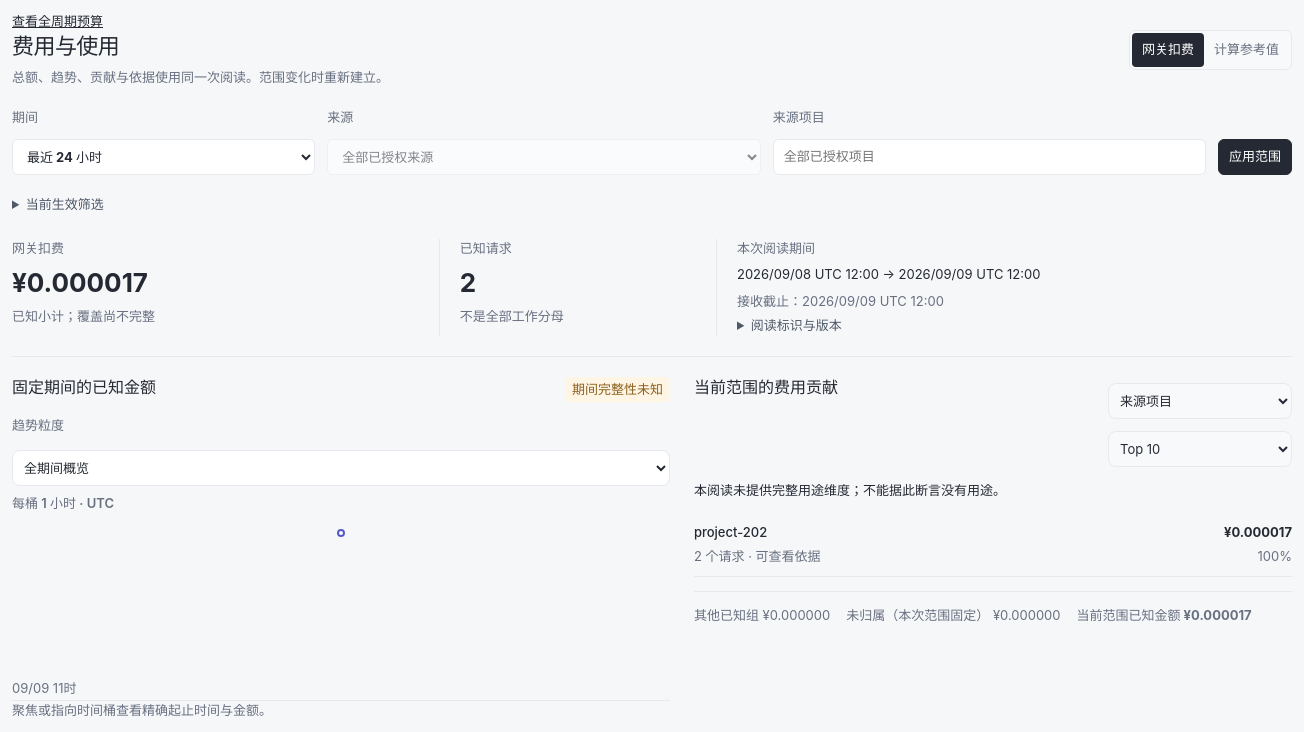
WorkbenchPage › keeps denominator and unassigned constants while appending full pages
Select "全部贡献" in the dropdown showing "Top 10" at (1200, 449), box [1108,431,1292,467]
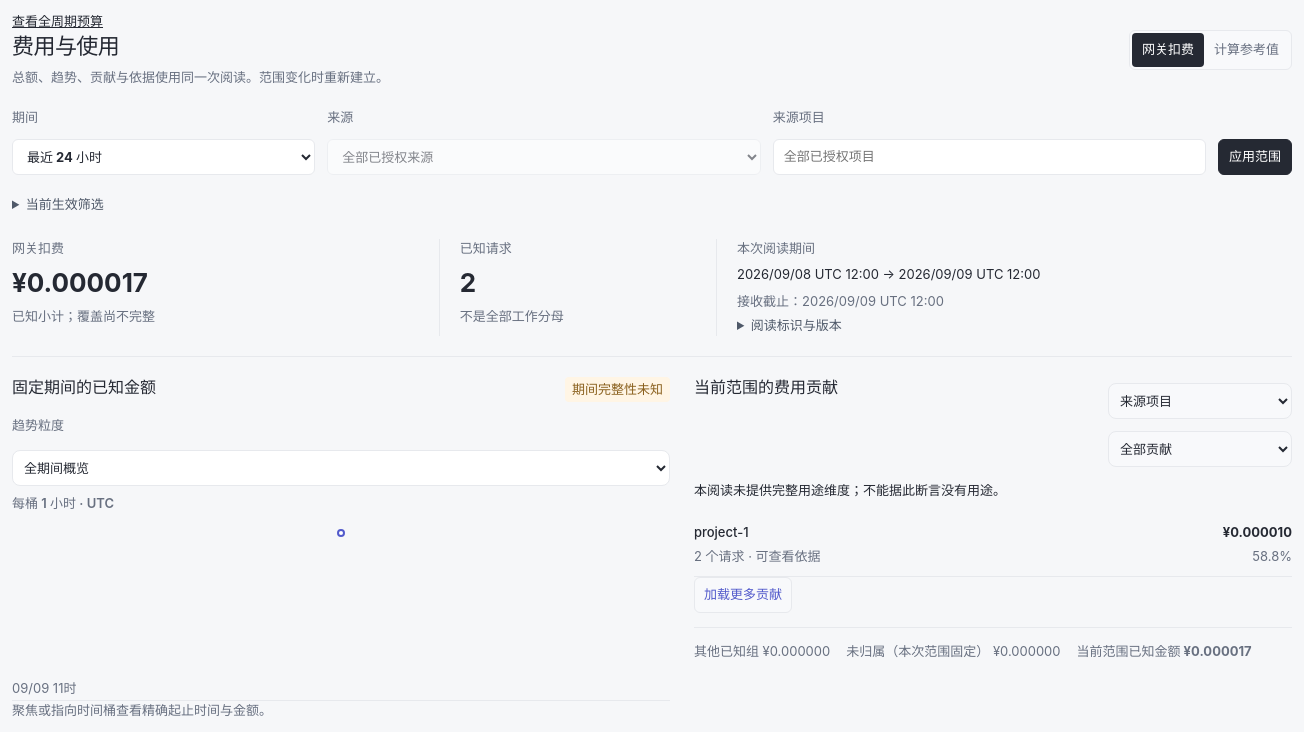
Expected: the text "project-1" is shown, [694,524,749,540]
Click the button "加载更多贡献" at (743, 595), box [694,577,792,613]
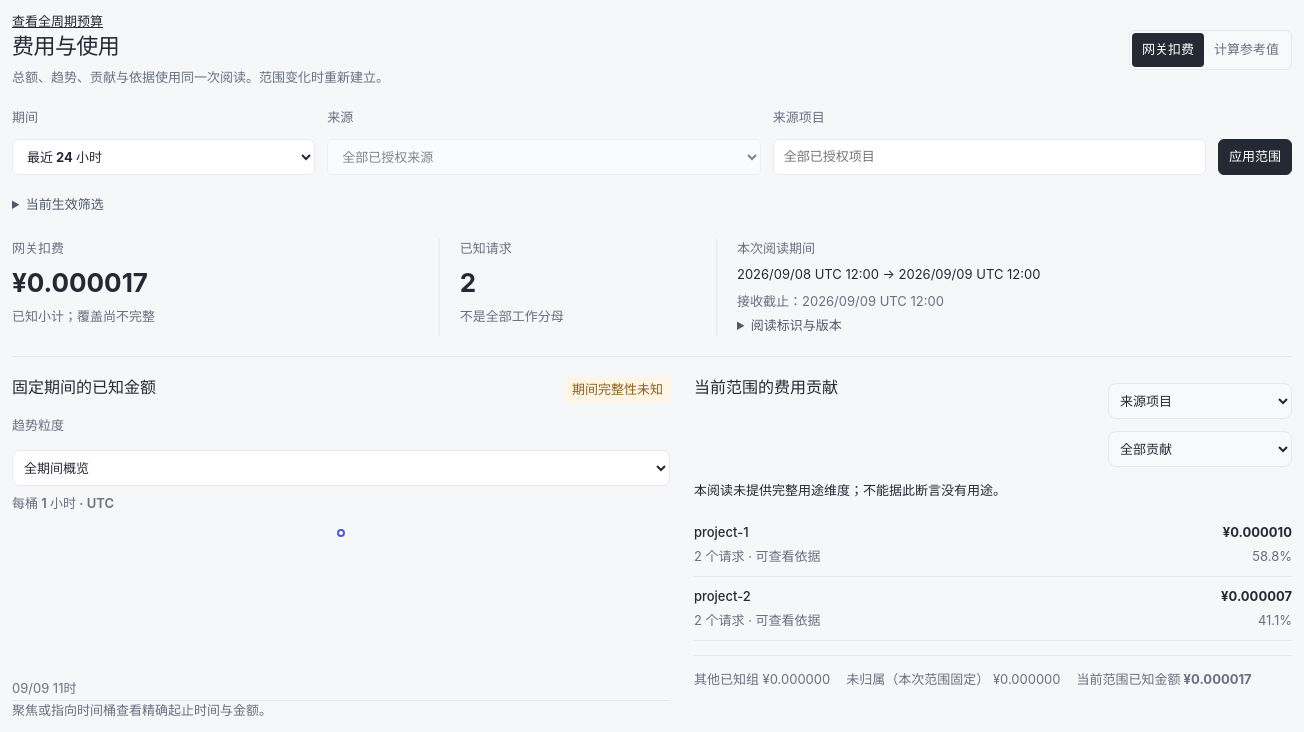
Expected: the text "当前范围已知金额 ¥0.000017" is shown, [1076,670,1252,690]
Expected: the text "project-2" is shown, [694,588,751,604]
